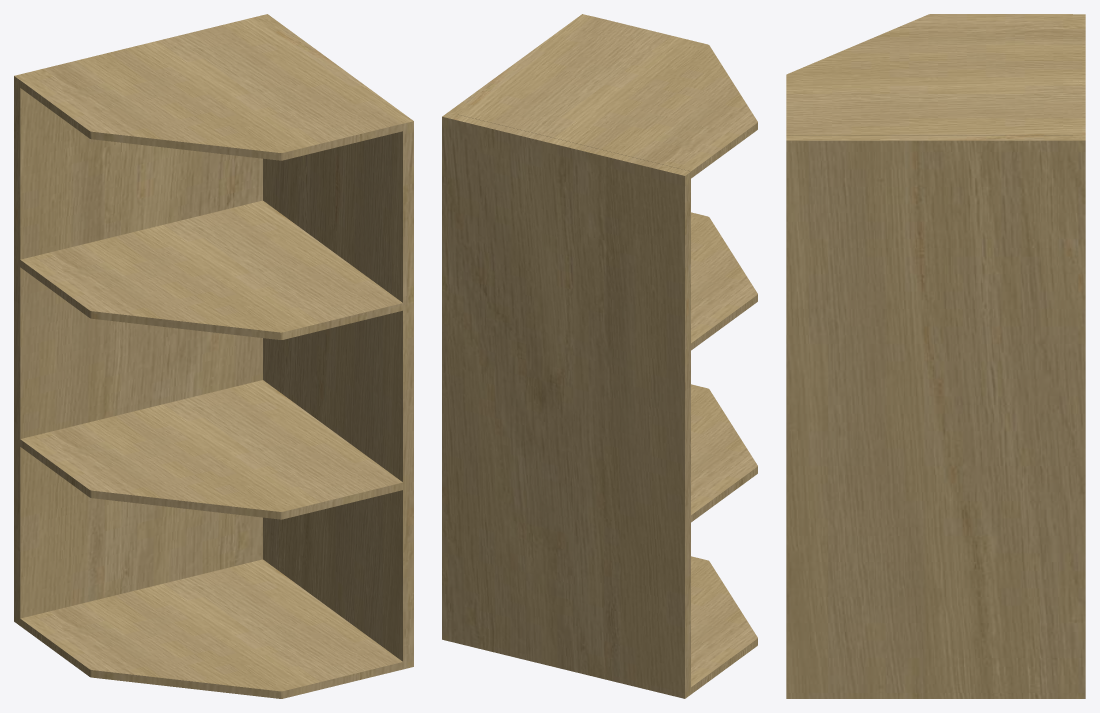
File: sh_blend_swap_cc_0_uppershelves.glb
3 renders of one model, left to right at view 1: azimuth 30°, elevation 25°; view 2: azimuth 150°, elevation 25°; view 3: azimuth 270°, elevation 25°, orthographic. The views are drawn at different scales.
Bounding box in the file's own units: 0.35 × 0.72 × 0.35.
1 material, 1 textured.
